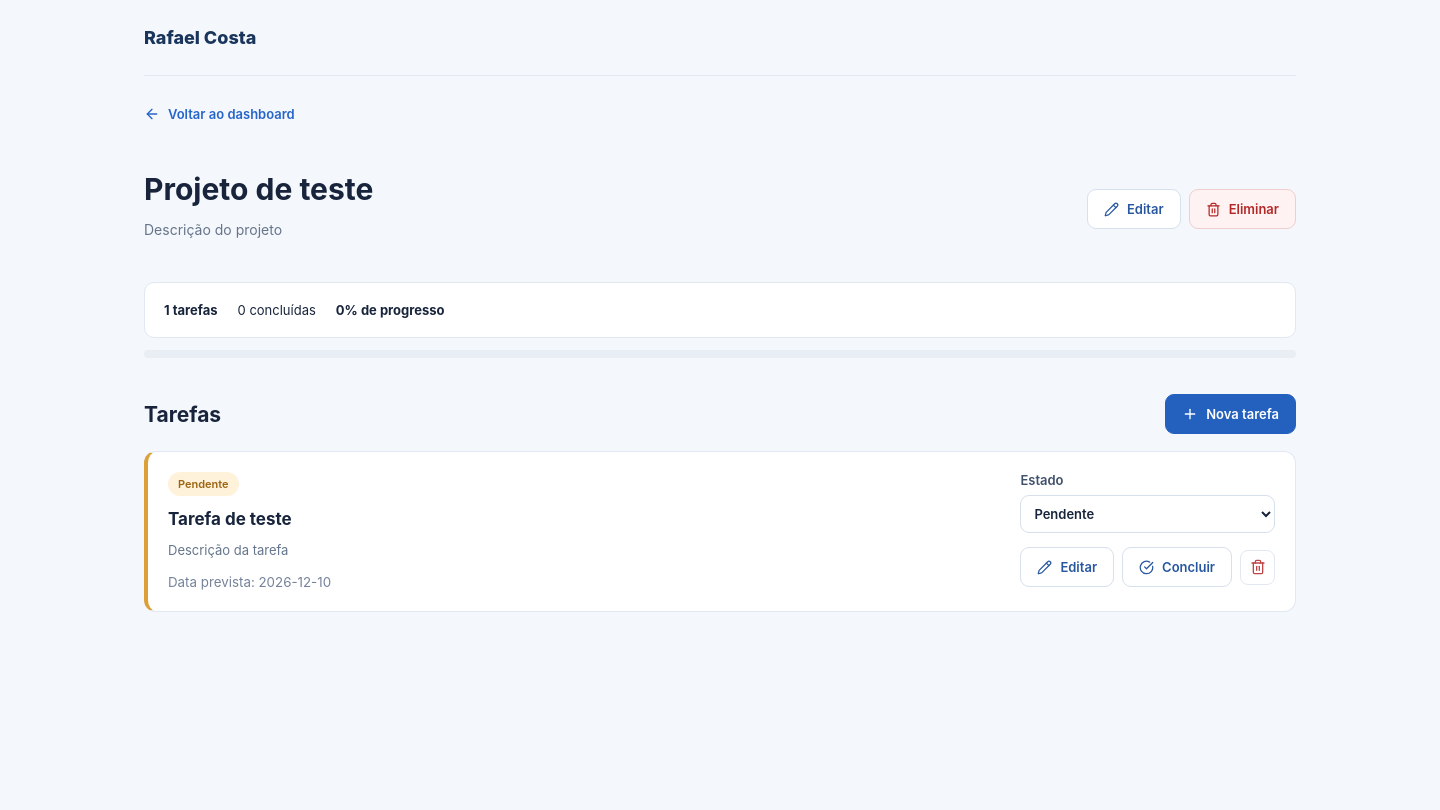
Test: Ramificações adicionais de ProjectDetail › mostra erro quando a mudança de estado falha
Check: the heading "Projeto de teste" is shown, box [144,171,373,207]
Check: the heading "Tarefa de teste" is shown, box [168,509,292,529]
Select "Em progresso" in the dropdown named "Estado de Tarefa de teste" at x=1148, y=514, box [1020,495,1275,533]
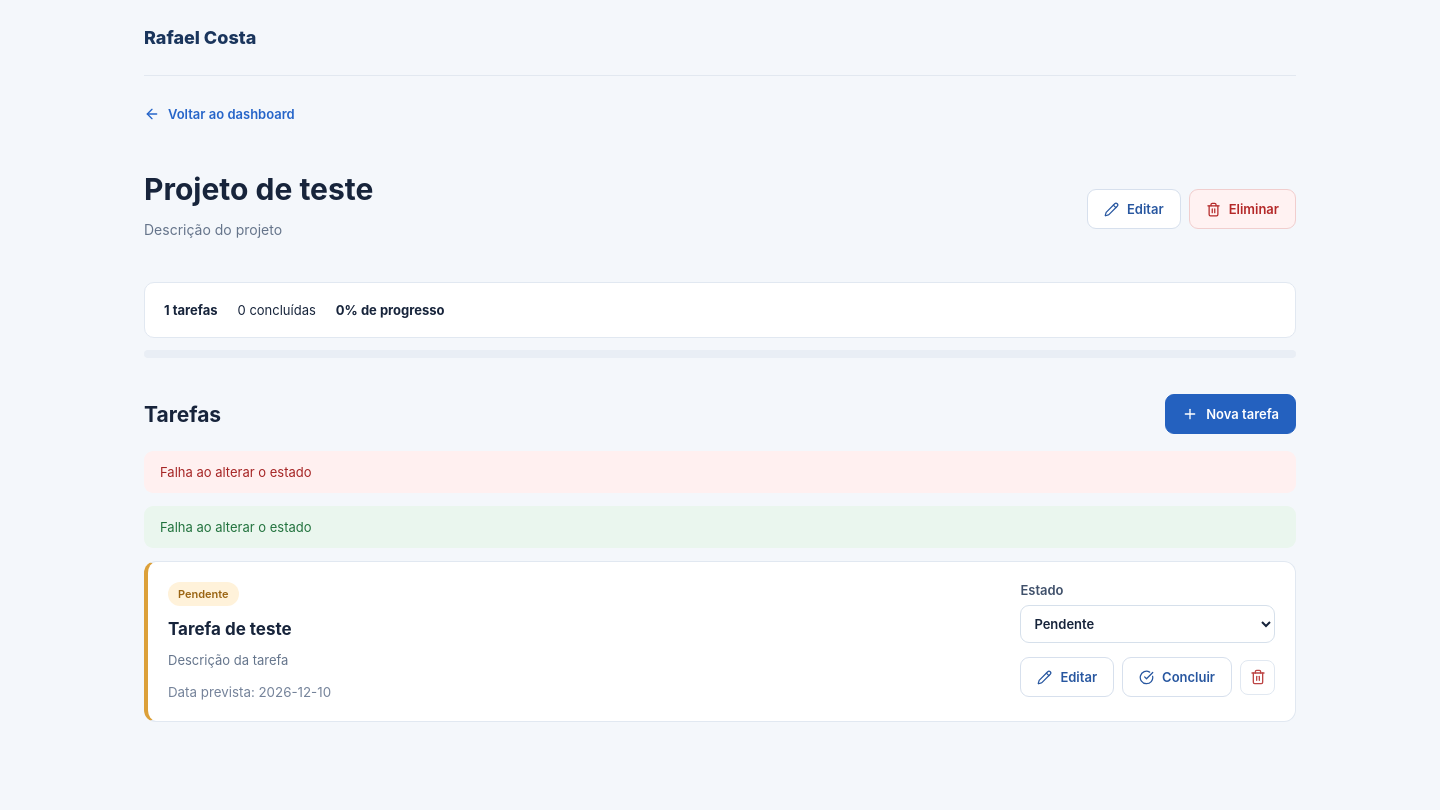
Check: the heading "Tarefa de teste" is shown, box [168,619,292,639]
Check: the 2nd message "Falha ao alterar o estado" is shown, box [144,506,1296,548]
